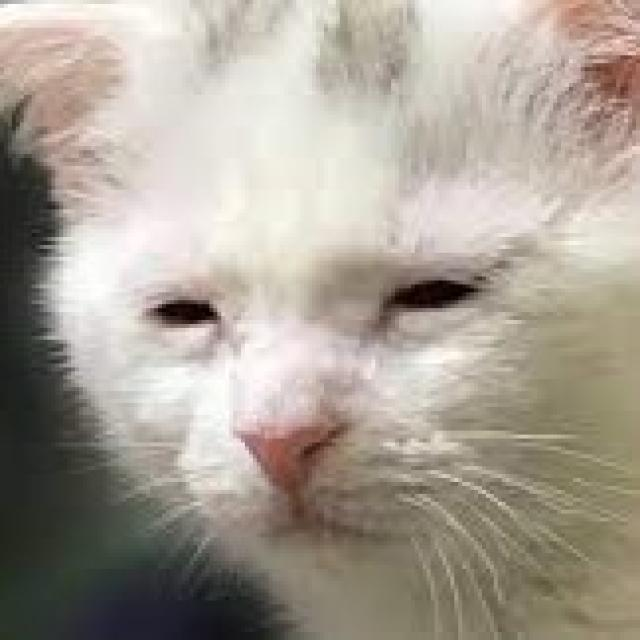Sad: (78, 191, 563, 584)
